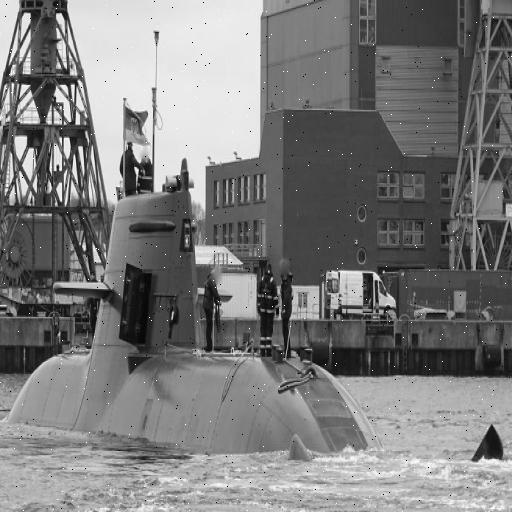submarine: (1, 193, 510, 463)
